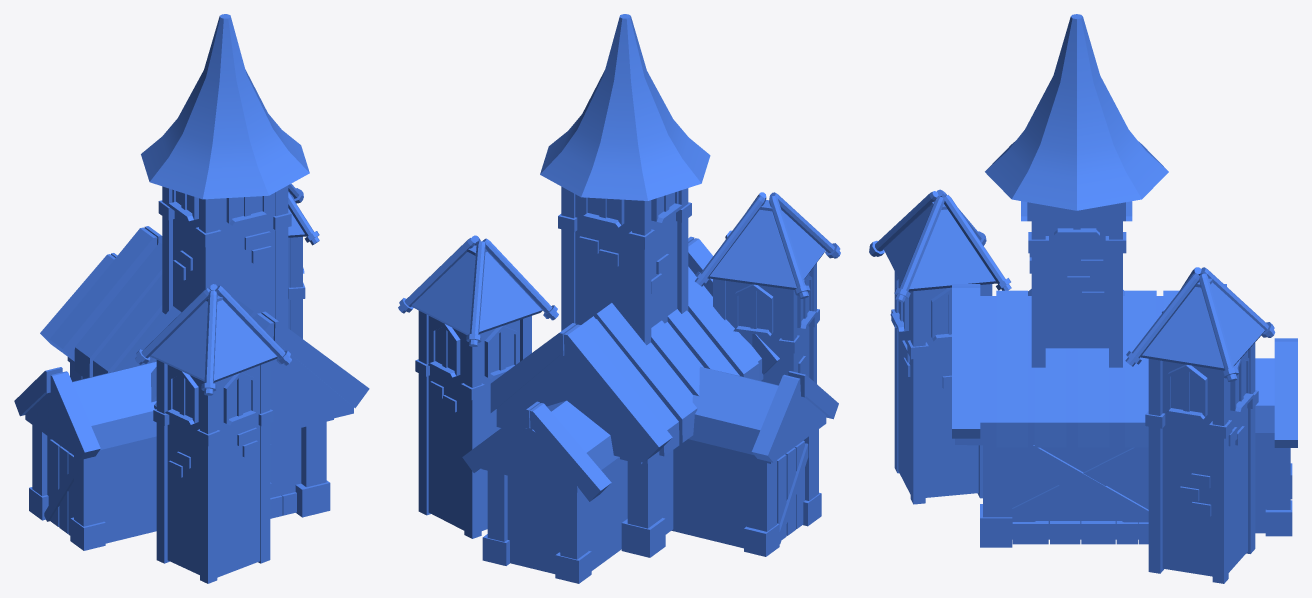
The model's file is Keep_Variant3.fbx.
3 renders of one model, left to right at view 1: azimuth 30°, elevation 25°; view 2: azimuth 150°, elevation 25°; view 3: azimuth 270°, elevation 25°, orthographic. The views are drawn at different scales.
Parts seen in each view (by area): view 1: Keep_Variant3; view 2: Keep_Variant3; view 3: Keep_Variant3.
Part boxes in pixels (x1,y1,x2,y2): Keep_Variant3: [14, 14, 369, 583]; Keep_Variant3: [398, 14, 840, 583]; Keep_Variant3: [869, 14, 1297, 583].
Size of the model in its own units: 466 by 652 by 502.
